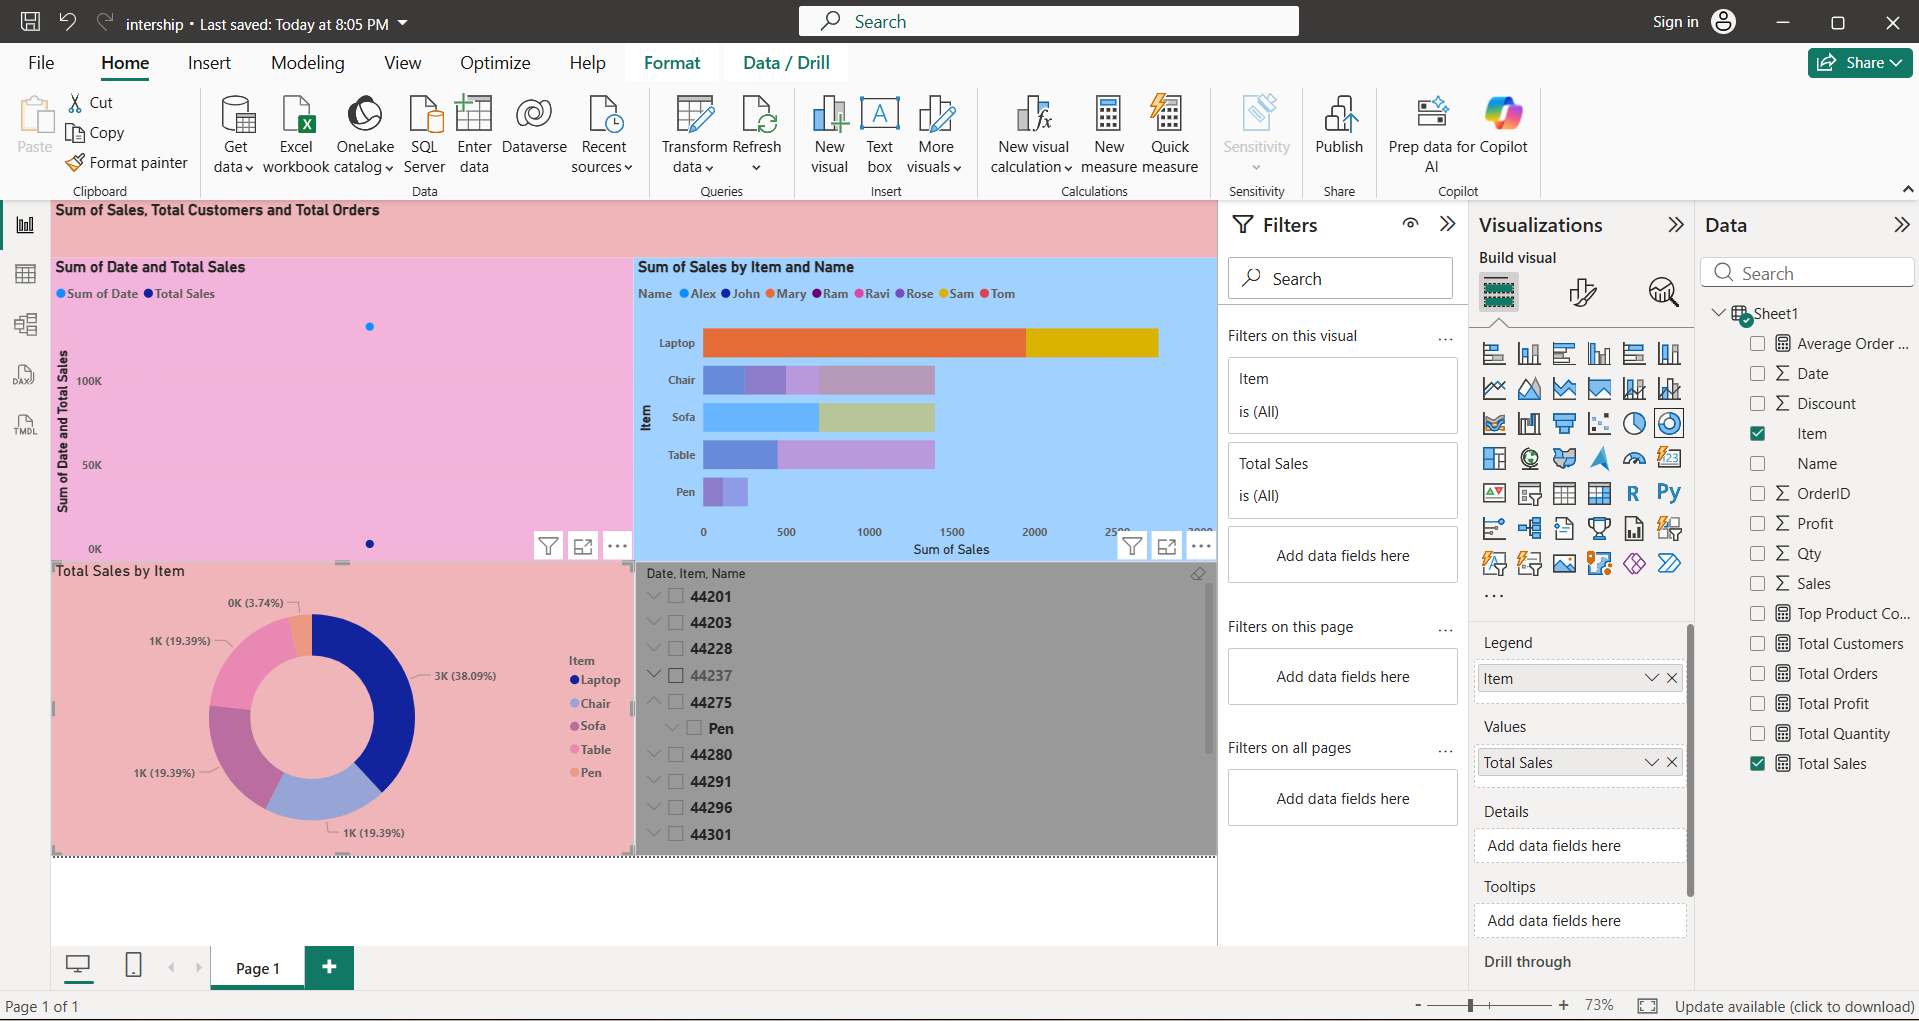

The page's visual inventory and layout, read from the dashboard file:
{"tool":"powerbi","page":{"name":"Page 1","canvas":[1280,720],"ordinal":0},"visuals":[{"type":"lineChart","fields":{"Y":["Sum(Sheet1.Date)","Sheet1.Total Sales"]},"box":[0,63.1,639.5,333.4],"z":0},{"type":"donutChart","fields":{"Category":["Sheet1.Item"],"Y":["Sheet1.Total Sales"]},"box":[0,396.6,639.5,323.8],"z":1},{"type":"barChart","fields":{"Category":["Sheet1.Item"],"Series":["Sheet1.Name"],"Y":["Sum(Sheet1.Sales)"]},"box":[639.5,63.1,640.8,333.4],"z":2},{"type":"slicer","fields":{"Values":["Sheet1.Date","Sheet1.Item","Sheet1.Name"]},"box":[640.8,396.6,639.5,323.8],"z":3},{"type":"kpi","fields":{"Indicator":["Sum(Sheet1.Sales)"],"Goal":["Sheet1.Total Customers","Sheet1.Total Orders"]},"box":[0,0,1280.3,63.1],"z":4}]}

Visuals, with their boxes on the page's 1280x720 design canvas (x1, y1, x2, y2). These are canvas units, not pixel positions in the 1919x1021 screenshot, which may show the page scaled, cropped or inside an application window:
lineChart - Sum(Sheet1.Date) x Sheet1.Total Sales: select_region(0, 63, 640, 396)
donutChart - Sheet1.Item x Sheet1.Total Sales: select_region(0, 397, 640, 720)
barChart - Sheet1.Item x Sheet1.Name: select_region(640, 63, 1280, 396)
slicer - Sheet1.Date x Sheet1.Item: select_region(641, 397, 1280, 720)
kpi - Sum(Sheet1.Sales) x Sheet1.Total Customers: select_region(0, 0, 1280, 63)
